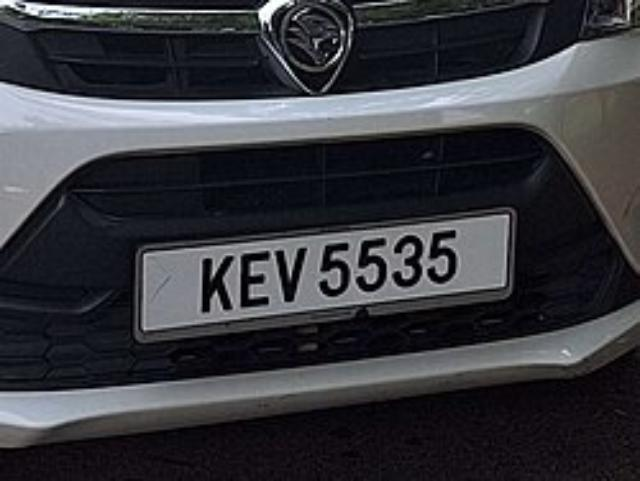License_Plate: (130, 204, 528, 366)
